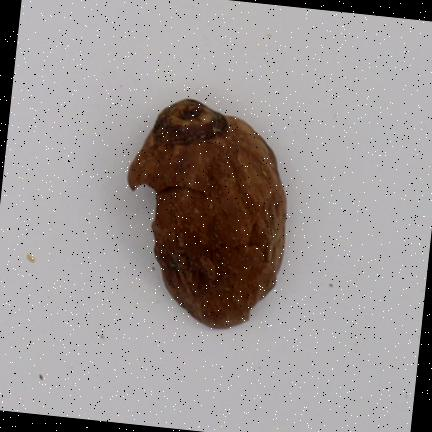husk: (128, 99, 286, 327)
